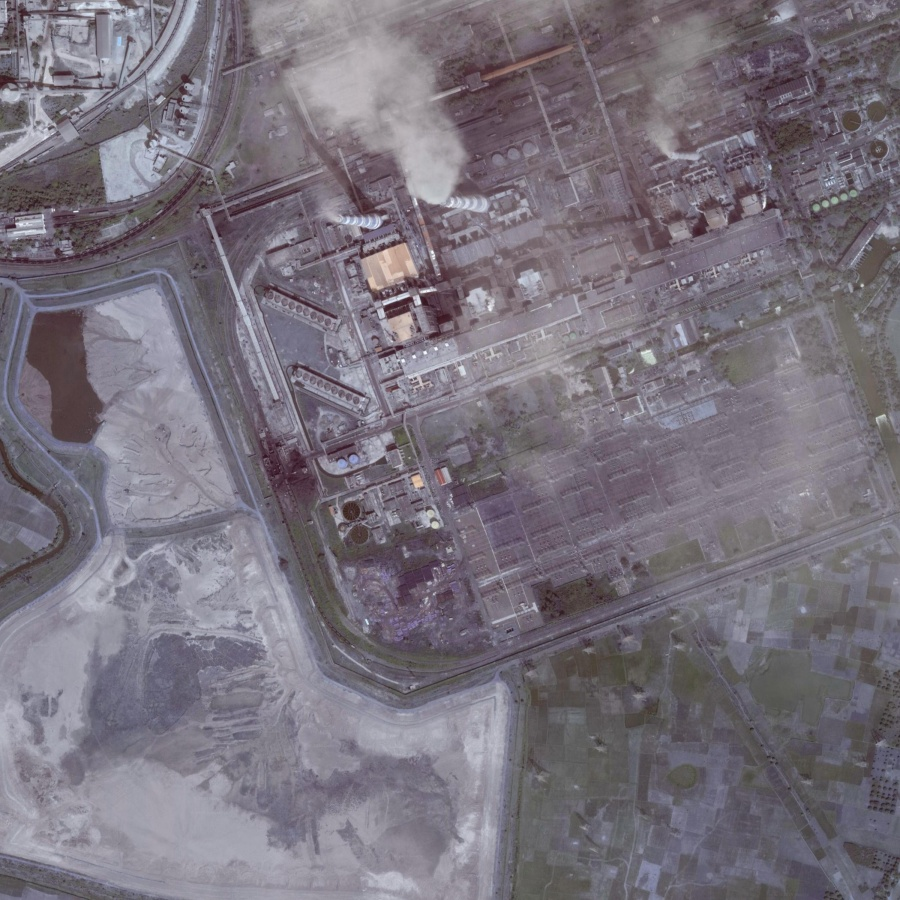PowerPlant: (285, 75, 769, 386)
